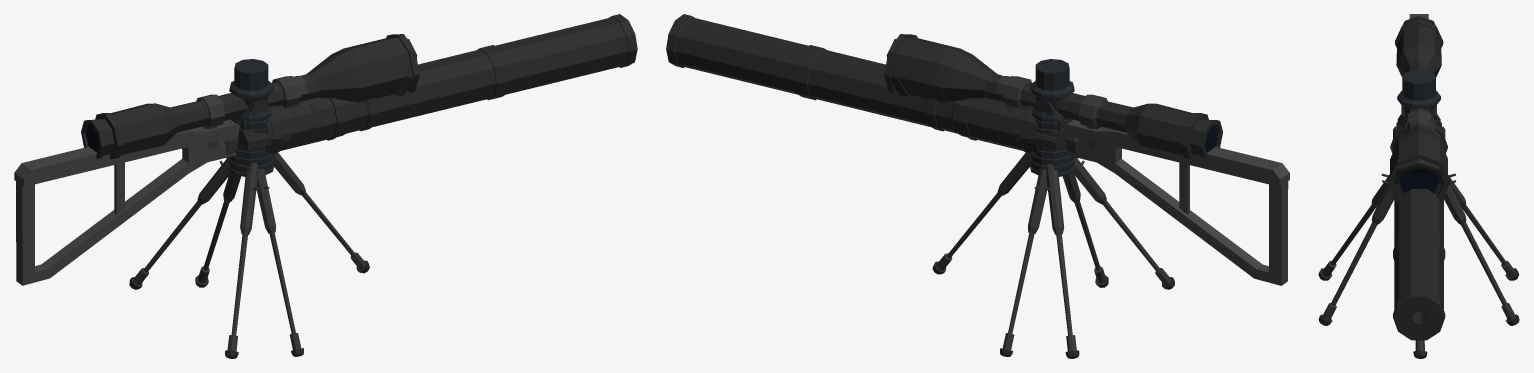
The model's file is attachments.glb.
The picture shows the model from 3 angles, left to right: view 1: azimuth 30°, elevation 25°; view 2: azimuth 150°, elevation 25°; view 3: azimuth 270°, elevation 25°; orthographic projection. The views are drawn at different scales.
Visible parts, largest first — view 1: Stock_Cube.199, Silencer_long_Cylinder.054, Scope_2_Cylinder.048, Scope_3_Cylinder.043, Silencer_1_Cylinder.006, Tripod_Cube.198, Silencer_3_Cylinder.057, Grip_Cylinder.042, Bipod_Cube.049, Scope_1_Cylinder.049, Flashlight_Cube.201, Silencer_2_Cylinder.008; view 2: Stock_Cube.199, Silencer_long_Cylinder.054, Scope_2_Cylinder.048, Silencer_3_Cylinder.057, Scope_3_Cylinder.043, Tripod_Cube.198, Grip_Cylinder.042, Bipod_Cube.049, Silencer_1_Cylinder.006, Scope_1_Cylinder.049, Flashlight_Cube.201, Silencer_2_Cylinder.008; view 3: Silencer_long_Cylinder.054, Scope_2_Cylinder.048, Scope_3_Cylinder.043, Bipod_Cube.049, Silencer_1_Cylinder.006, Tripod_Cube.198, Grip_Cylinder.042, Silencer_3_Cylinder.057, Scope_1_Cylinder.049.
Part boxes in pixels (left/top/right/bottom): Stock_Cube.199: left=14, top=119, right=239, bottom=285; Silencer_long_Cylinder.054: left=265, top=14, right=637, bottom=152; Scope_2_Cylinder.048: left=95, top=38, right=417, bottom=159; Scope_3_Cylinder.043: left=196, top=34, right=419, bottom=129; Silencer_1_Cylinder.006: left=308, top=47, right=505, bottom=131; Tripod_Cube.198: left=129, top=147, right=369, bottom=358; Silencer_3_Cylinder.057: left=269, top=45, right=511, bottom=154; Grip_Cylinder.042: left=228, top=59, right=274, bottom=176; Bipod_Cube.049: left=195, top=165, right=303, bottom=356; Scope_1_Cylinder.049: left=81, top=93, right=308, bottom=158; Flashlight_Cube.201: left=238, top=104, right=297, bottom=149; Silencer_2_Cylinder.008: left=286, top=98, right=342, bottom=147; Stock_Cube.199: left=1064, top=119, right=1289, bottom=285; Silencer_long_Cylinder.054: left=666, top=14, right=1038, bottom=153; Scope_2_Cylinder.048: left=886, top=38, right=1208, bottom=159; Silencer_3_Cylinder.057: left=792, top=45, right=1034, bottom=154; Scope_3_Cylinder.043: left=884, top=34, right=1107, bottom=128; Tripod_Cube.198: left=932, top=153, right=1174, bottom=358; Grip_Cylinder.042: left=1029, top=59, right=1075, bottom=176; Bipod_Cube.049: left=1000, top=165, right=1108, bottom=356; Silencer_1_Cylinder.006: left=798, top=47, right=995, bottom=112; Scope_1_Cylinder.049: left=995, top=93, right=1222, bottom=158; Flashlight_Cube.201: left=1005, top=104, right=1065, bottom=150; Silencer_2_Cylinder.008: left=961, top=98, right=1017, bottom=148; Silencer_long_Cylinder.054: left=1393, top=127, right=1445, bottom=340; Scope_2_Cylinder.048: left=1394, top=19, right=1445, bottom=184; Scope_3_Cylinder.043: left=1388, top=118, right=1450, bottom=202; Bipod_Cube.049: left=1318, top=180, right=1519, bottom=325; Silencer_1_Cylinder.006: left=1393, top=189, right=1445, bottom=253; Tripod_Cube.198: left=1318, top=173, right=1519, bottom=358; Grip_Cylinder.042: left=1396, top=70, right=1441, bottom=127; Silencer_3_Cylinder.057: left=1390, top=126, right=1447, bottom=260; Scope_1_Cylinder.049: left=1396, top=15, right=1441, bottom=195.
Size of the model in its own units: 4.14 by 1.67 by 1.22.
